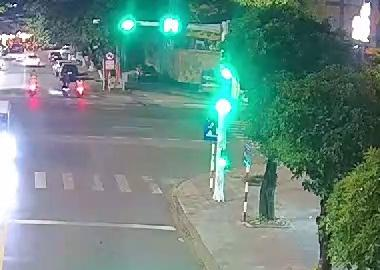green_light: (214, 58, 241, 113), (154, 10, 183, 40), (113, 13, 137, 36)
stop_line: (2, 215, 189, 233)
